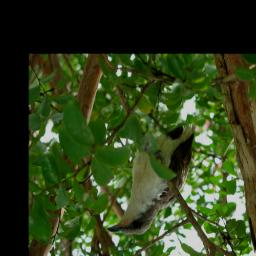Cuckoo: (108, 120, 197, 236)
